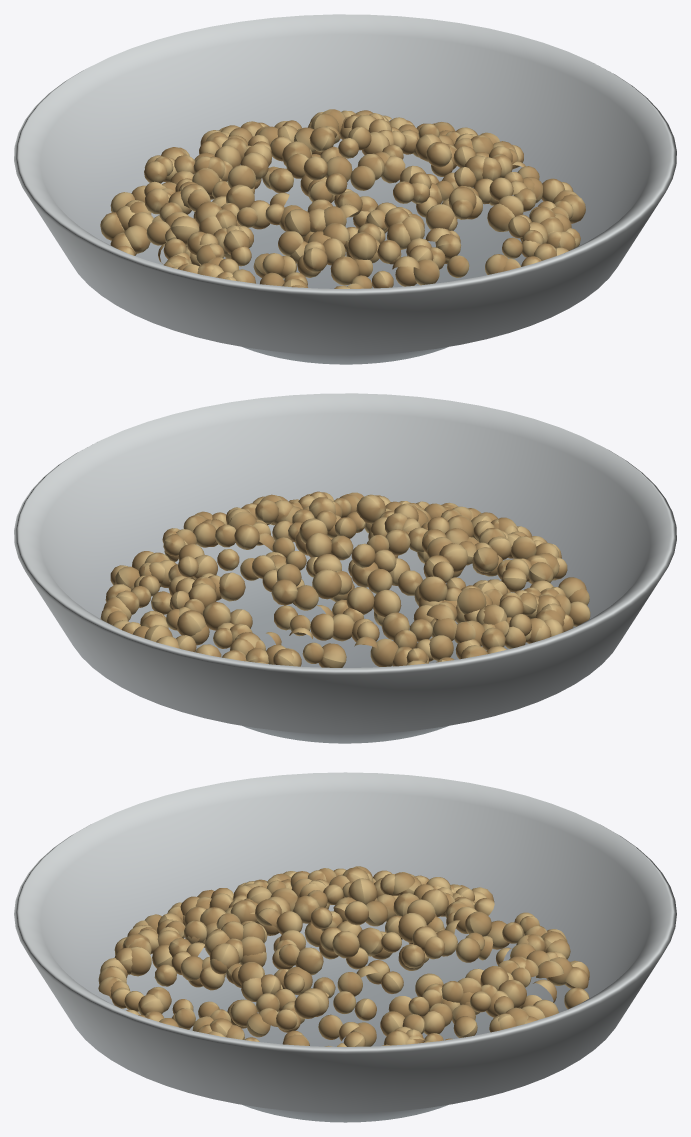
Rendered from coriander-seeds.glb.
3 renders of one model, top to bottom at view 1: azimuth 30°, elevation 25°; view 2: azimuth 150°, elevation 25°; view 3: azimuth 270°, elevation 25°, orthographic.
Parts seen in each view (by area): view 1: steel, seeds; view 2: steel, seeds; view 3: steel, seeds.
Boxes of the visible parts, x1,y1,x2,y2 form: steel: (14, 14, 676, 364); seeds: (100, 109, 585, 288); steel: (14, 393, 676, 743); seeds: (100, 491, 590, 667); steel: (14, 772, 676, 1122); seeds: (98, 866, 589, 1046).
Size of the model in its own units: 1.24 by 0.309 by 1.24.
